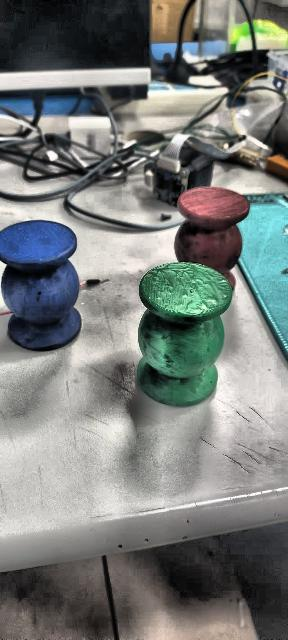blue: (0, 220, 82, 350)
green: (135, 261, 232, 407)
red: (172, 174, 255, 296)
